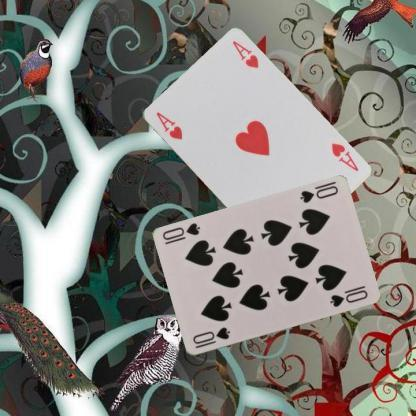10s: (190, 325, 232, 350), (297, 183, 339, 205)
Ah: (328, 140, 360, 173), (153, 109, 184, 141)
